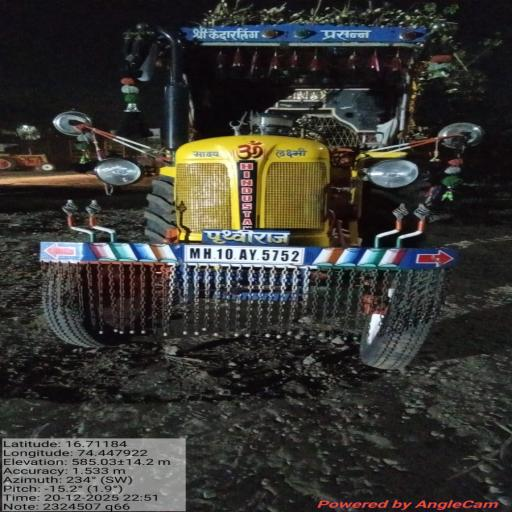number_plate: (174, 242, 318, 272)
